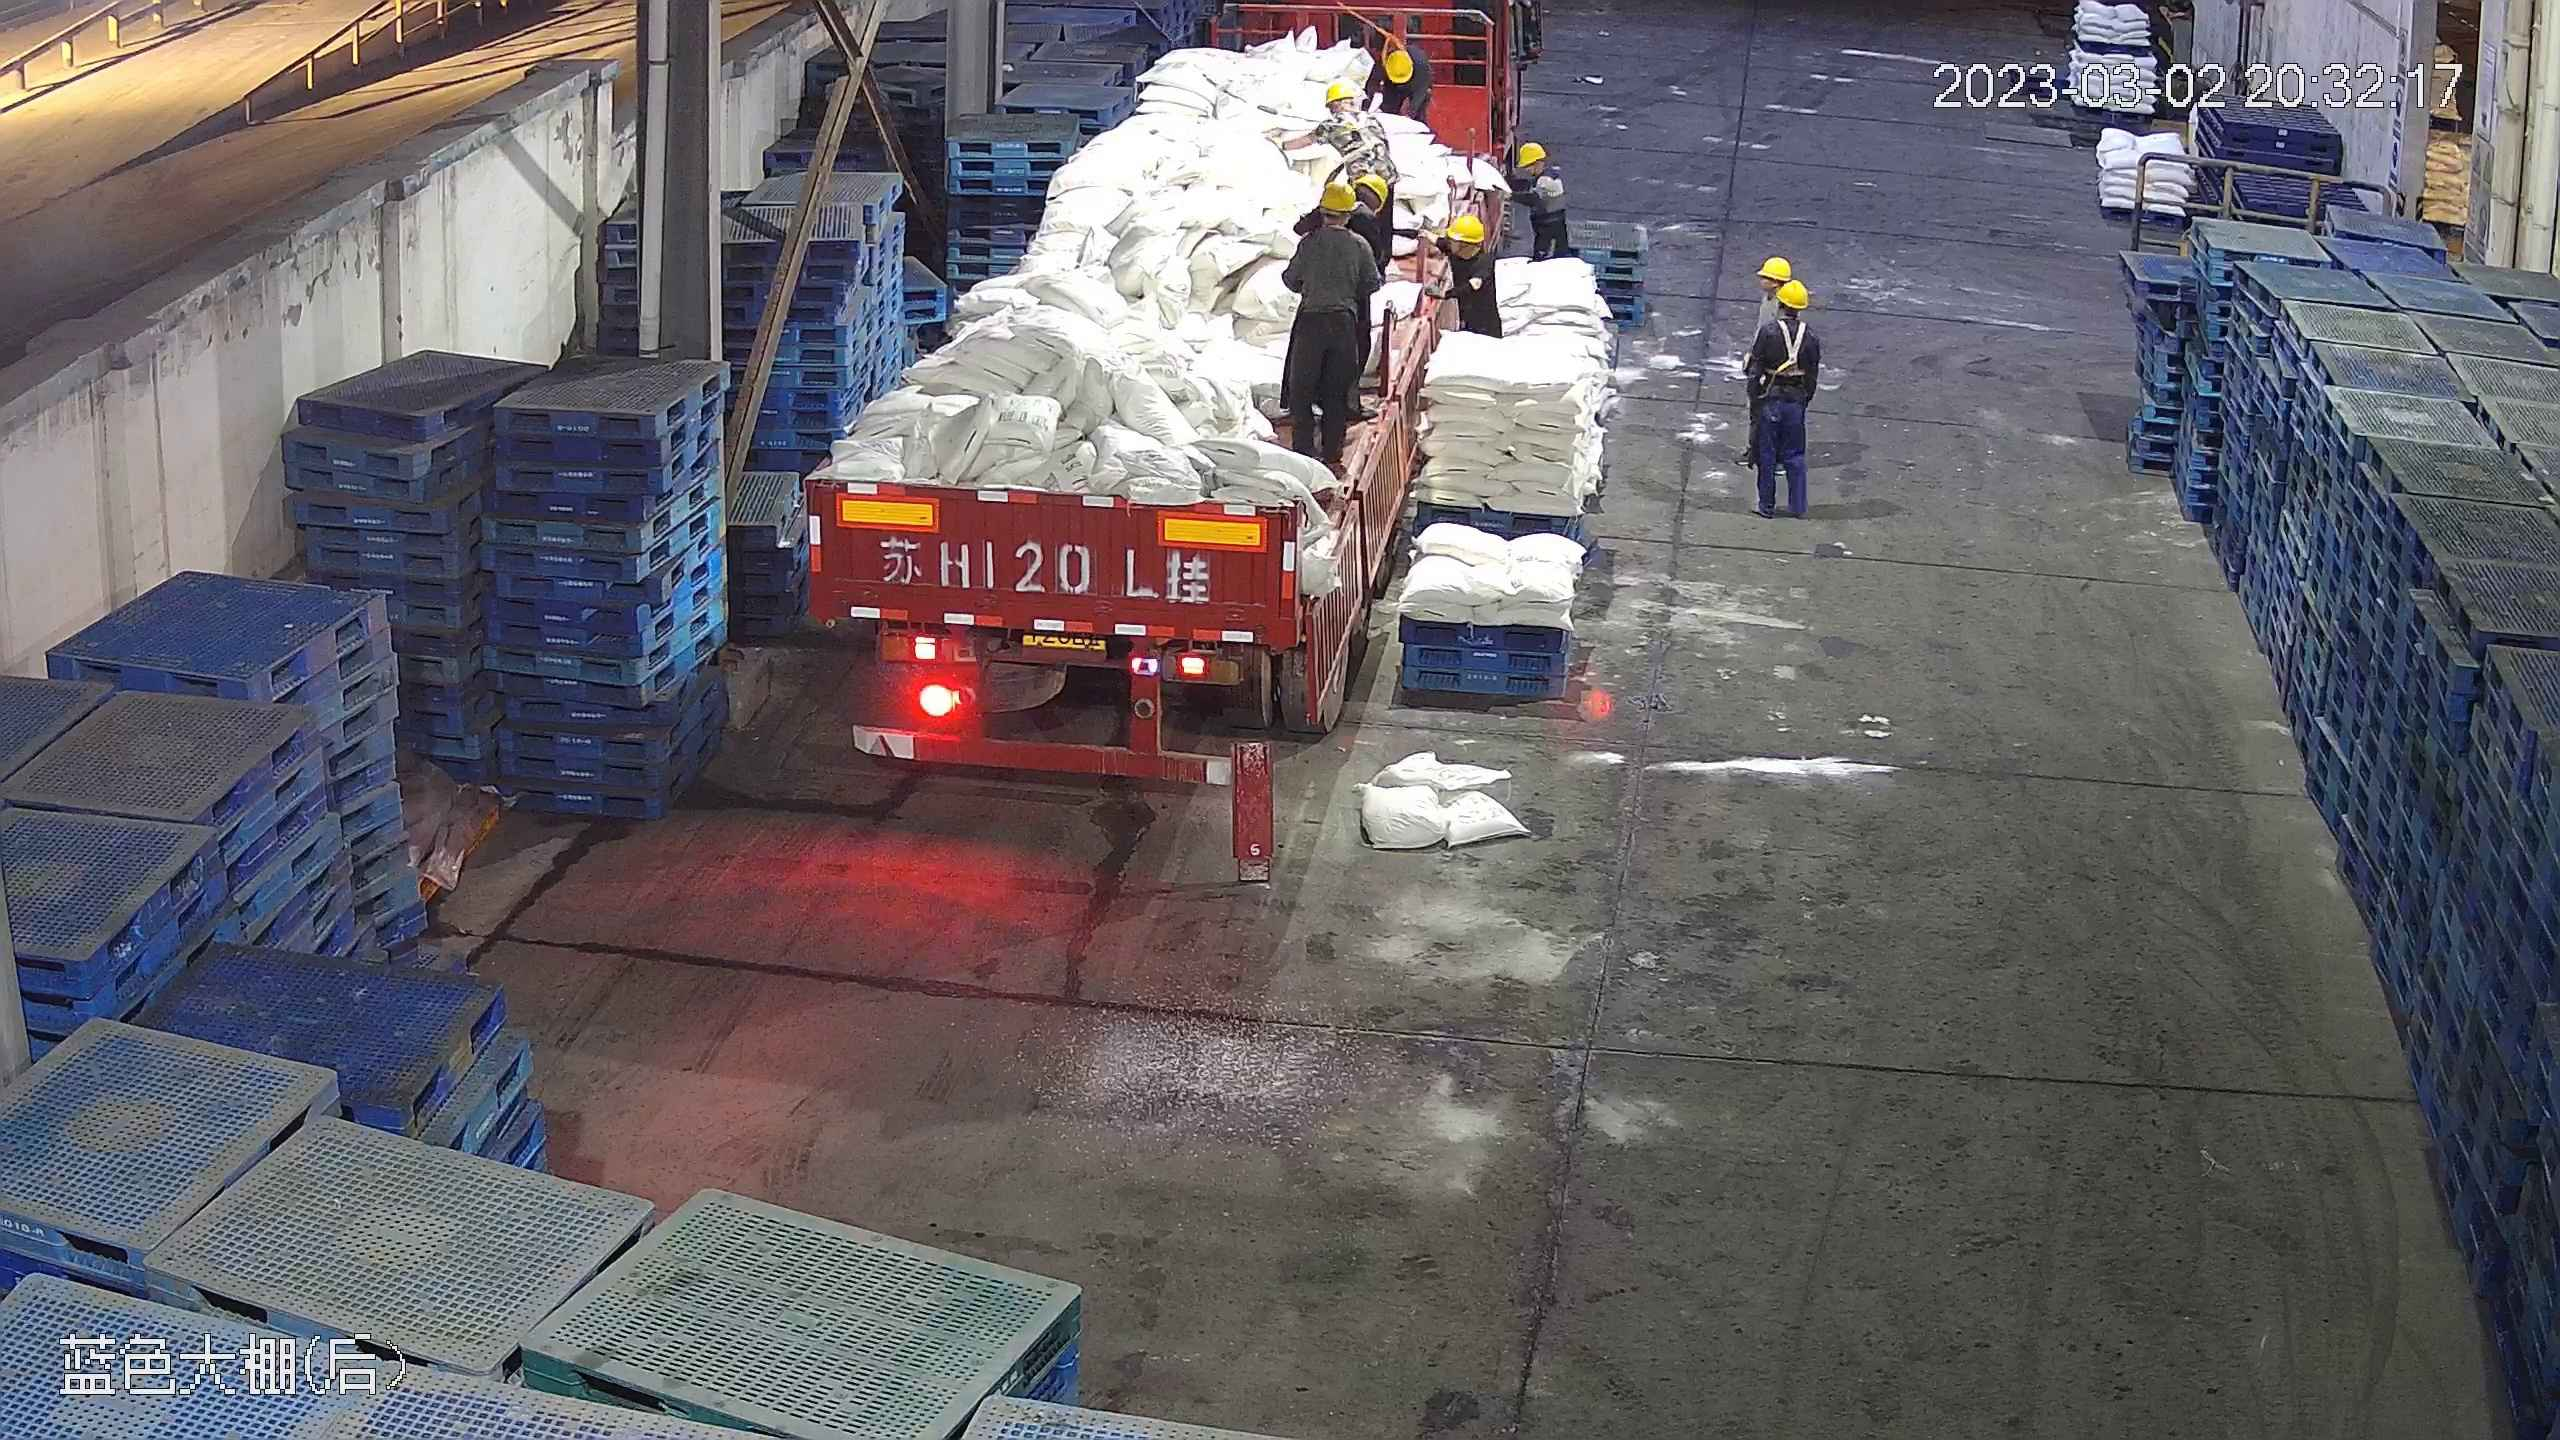belt: (1762, 321, 1814, 378), (1336, 109, 1384, 158), (1436, 245, 1482, 289), (1374, 23, 1409, 62)
head: (1290, 174, 1381, 261), (1753, 270, 1819, 352), (1430, 212, 1504, 285), (1313, 74, 1388, 140), (1509, 140, 1562, 202), (1373, 40, 1428, 90)
helmet: (1322, 173, 1375, 208), (1443, 212, 1487, 244), (1380, 44, 1414, 80), (1762, 257, 1800, 288), (1767, 272, 1808, 302), (1323, 77, 1355, 104), (1516, 141, 1547, 166)
people: (1269, 173, 1379, 459), (1741, 268, 1821, 522), (1505, 138, 1569, 260), (1364, 38, 1435, 126)
truck: (795, 7, 1459, 786)
